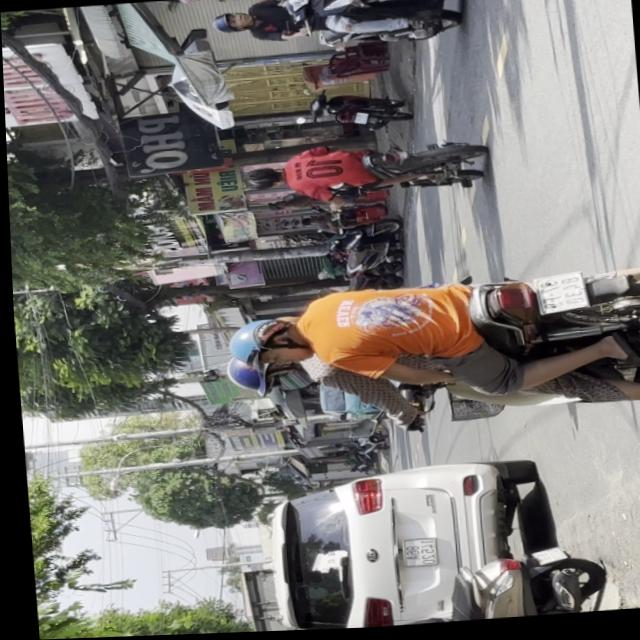helmet: (221, 314, 309, 368), (220, 353, 301, 397), (209, 10, 253, 34)
licenseplate: (212, 260, 640, 442), (238, 134, 490, 209), (206, 0, 470, 58)
motorcyclist: (241, 164, 284, 190)
nohelmet: (533, 274, 585, 316)
